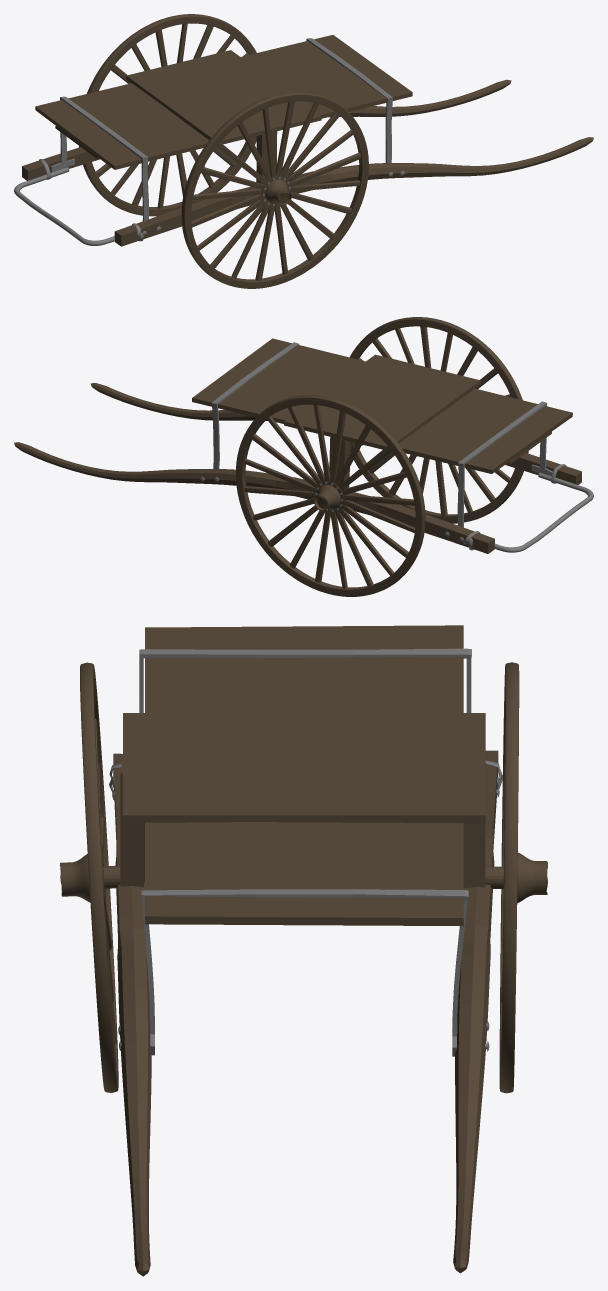
The model's file is woodenCart.fbx.
3 views of the same model, one above another, from view 1: azimuth 30°, elevation 25°; view 2: azimuth 150°, elevation 25°; view 3: azimuth 270°, elevation 25° (orthographic). The views are drawn at different scales.
Parts seen in each view (by area): view 1: cart; view 2: cart; view 3: cart.
Part boxes in pixels (left/top/right/bottom): cart: left=14, top=14, right=593, bottom=288; cart: left=14, top=317, right=593, bottom=596; cart: left=60, top=625, right=547, bottom=1276.
Size of the model in its own units: 11.38 by 4.2 by 4.76.
